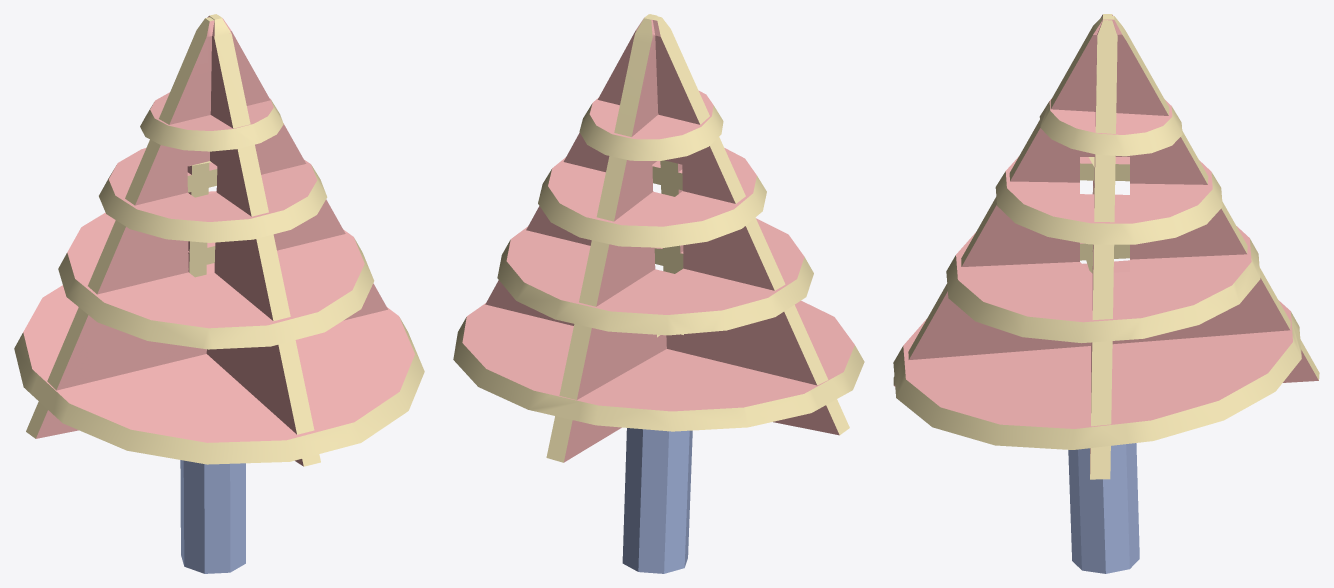
Rendered from ResourceTreeModel.fbx.
3 renders of one model, left to right at view 1: azimuth 30°, elevation 25°; view 2: azimuth 150°, elevation 25°; view 3: azimuth 270°, elevation 25°, orthographic.
Visible parts, largest first — view 1: ResourceTree; view 2: ResourceTree; view 3: ResourceTree.
Boxes of the visible parts, x1,y1,x2,y2 form: ResourceTree: (14,14,424,573); ResourceTree: (453,14,864,573); ResourceTree: (893,14,1319,573).
Size of the model in its own units: 5.05 by 6.99 by 4.96.
